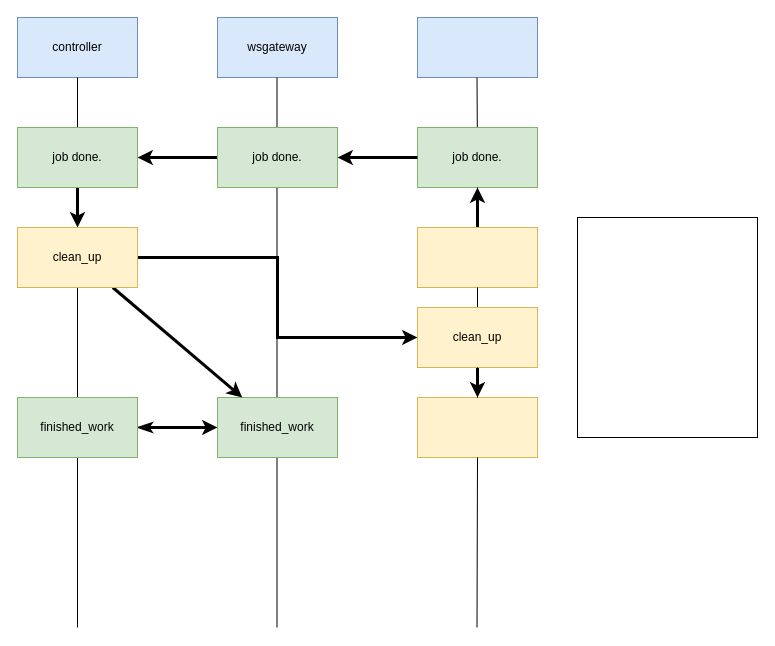
The diagram is 775 pixels wide and 646 high, and some of its shapes have lost their labels. The centre of each missing label's shape, as x and y in pixels:
"periodic task to push unacknowledged work" belongs at (x=477, y=257).
"Stop pushing result." belongs at (x=477, y=427).
"worker" belongs at (x=477, y=47).
"Worker state" belongs at (x=667, y=327).
